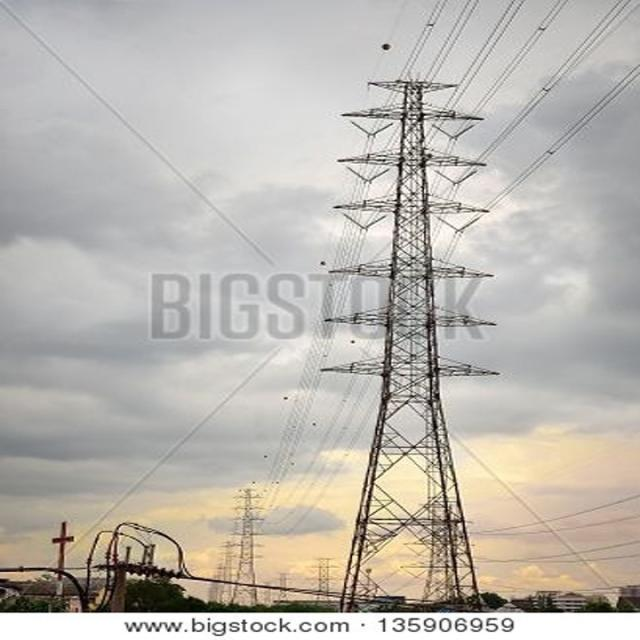non-critical vegetation: (324, 73, 508, 609)
